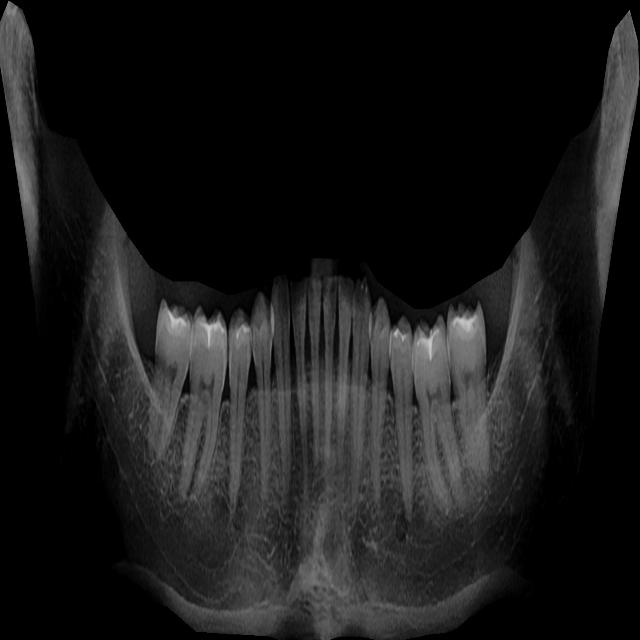mandibula: (0, 0, 640, 640)
